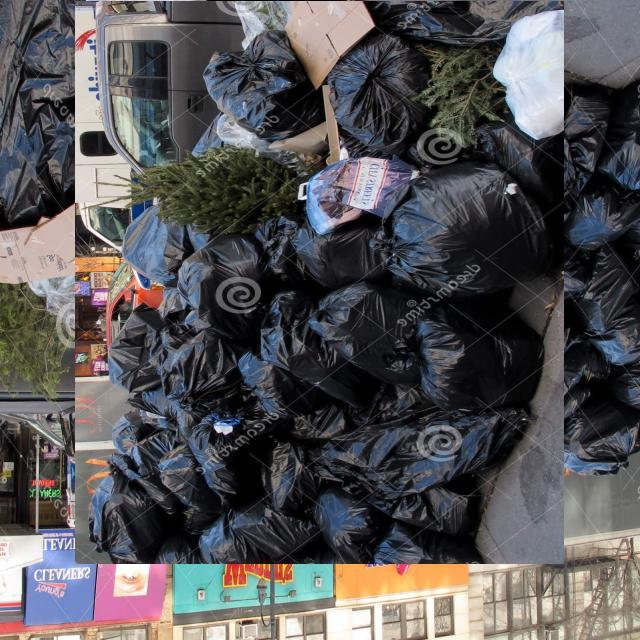garbage: (37, 0, 602, 527)
